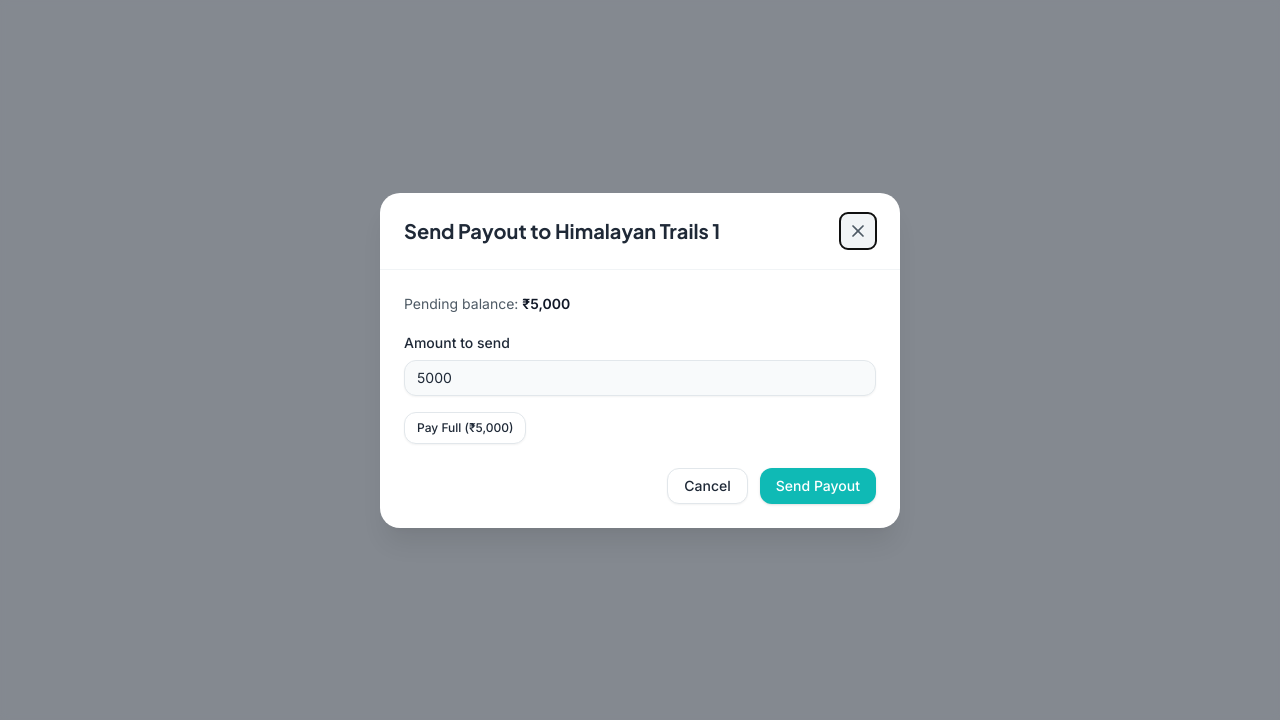
Test: SendPayoutModal › keeps the modal open when the release result status is "insufficient_balance"
Click the button "Send Payout" at point(818, 486), box [760,468,876,504]
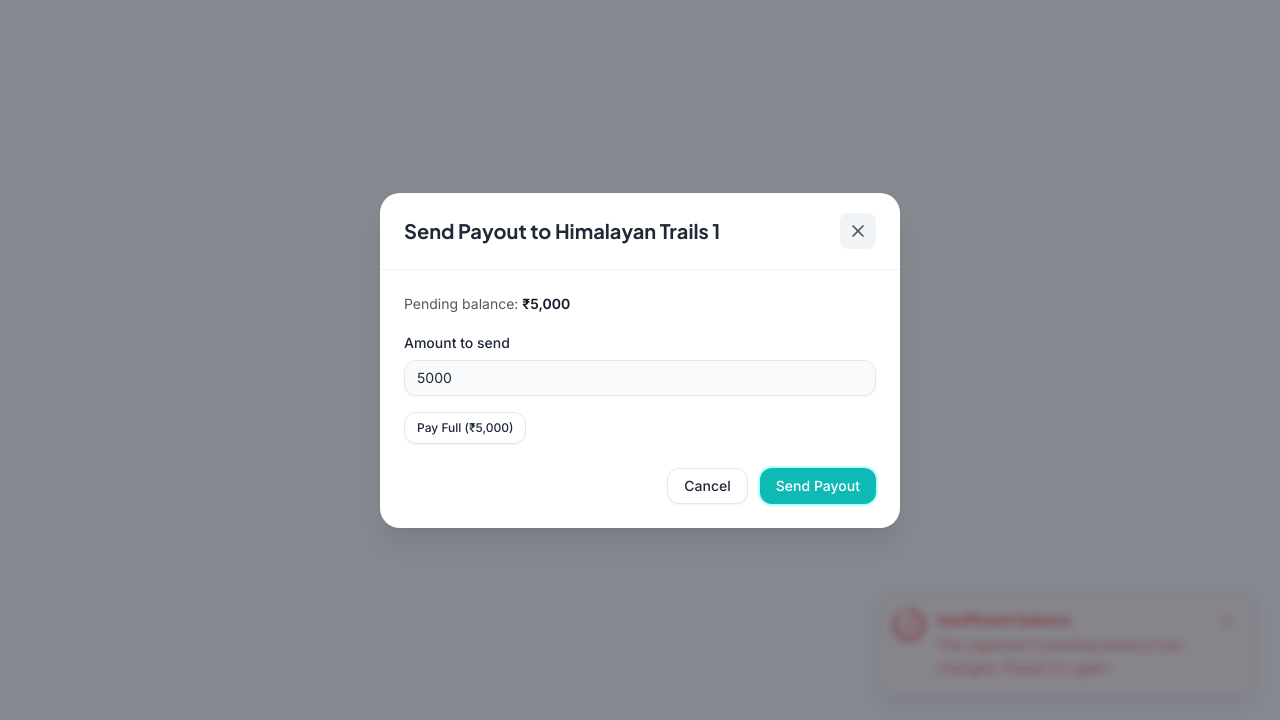
Expected: the text "Insufficient balance" is shown, [937,611,1070,628]
